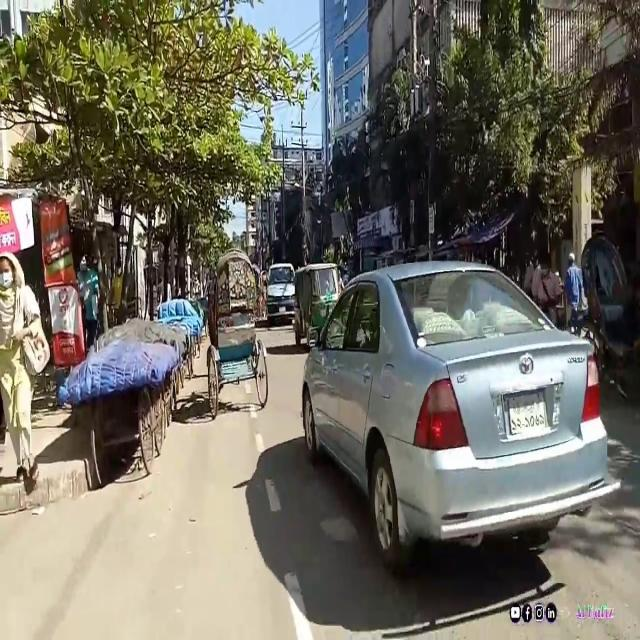silver: (292, 262, 608, 551), (265, 262, 295, 325)
